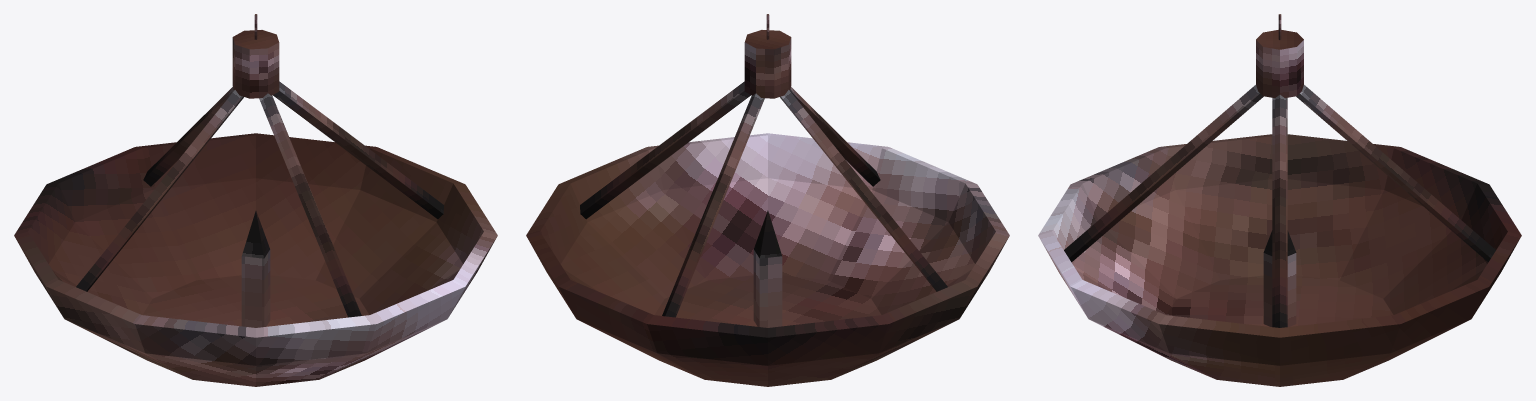
Rendered from fcoh_antenna.obj.
3 views of the same model, side by side, from view 1: azimuth 30°, elevation 25°; view 2: azimuth 150°, elevation 25°; view 3: azimuth 270°, elevation 25° (orthographic).
Parts seen in each view (by area): view 1: Cylinder.001, Cylinder.005_Cylinder.004, Cylinder.006_Cylinder.004, Cylinder.004, Cylinder.008_Cylinder.005, Cylinder.003, Cylinder.007_Cylinder.004; view 2: Cylinder.001, Cylinder.007_Cylinder.004, Cylinder.006_Cylinder.004, Cylinder.004, Cylinder.008_Cylinder.005, Cylinder.003, Cylinder.005_Cylinder.004; view 3: Cylinder.001, Cylinder.005_Cylinder.004, Cylinder.007_Cylinder.004, Cylinder.006_Cylinder.004, Cylinder.008_Cylinder.005, Cylinder.003.
Boxes of the visible parts, x1,y1,x2,y2 form: Cylinder.001: (14, 133, 497, 386); Cylinder.005_Cylinder.004: (259, 93, 361, 317); Cylinder.006_Cylinder.004: (273, 81, 443, 219); Cylinder.004: (76, 90, 243, 291); Cylinder.008_Cylinder.005: (232, 30, 279, 98); Cylinder.003: (241, 210, 270, 327); Cylinder.007_Cylinder.004: (143, 87, 233, 186); Cylinder.001: (526, 133, 1009, 386); Cylinder.007_Cylinder.004: (662, 93, 764, 317); Cylinder.006_Cylinder.004: (580, 81, 750, 219); Cylinder.004: (780, 90, 947, 291); Cylinder.008_Cylinder.005: (744, 30, 791, 98); Cylinder.003: (753, 210, 782, 327); Cylinder.005_Cylinder.004: (790, 87, 880, 186); Cylinder.001: (1038, 134, 1521, 386); Cylinder.005_Cylinder.004: (1064, 85, 1263, 262); Cylinder.007_Cylinder.004: (1296, 85, 1495, 262); Cylinder.006_Cylinder.004: (1272, 95, 1287, 327); Cylinder.008_Cylinder.005: (1256, 30, 1303, 98); Cylinder.003: (1263, 230, 1296, 326).
Size of the model in its own units: 3.82 by 3.1 by 3.82.
